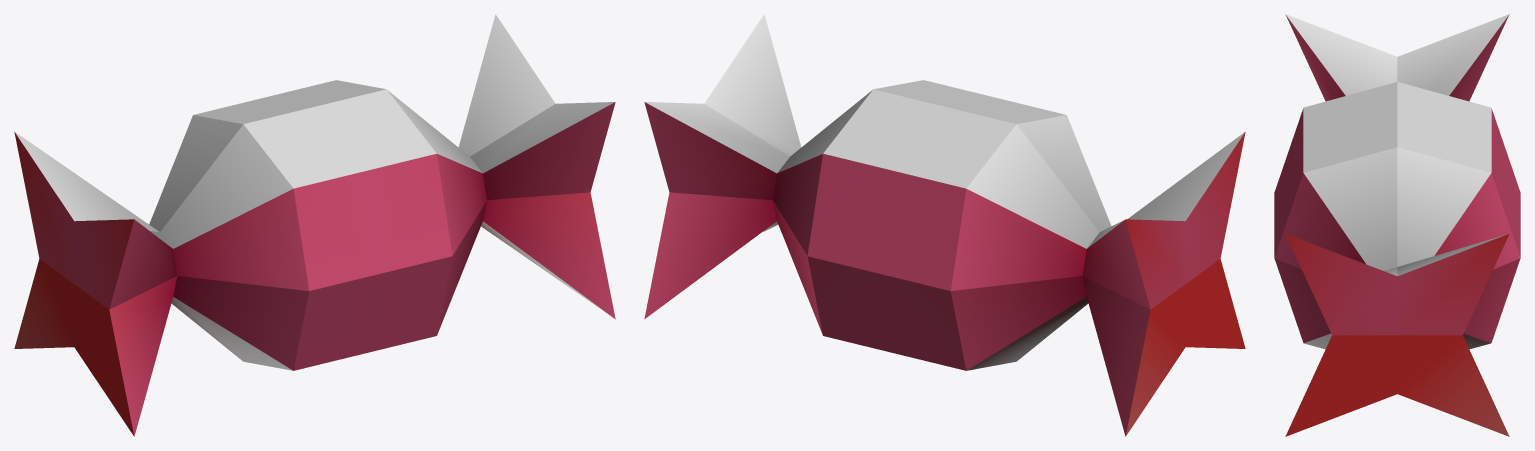
The model's file is candy.fbx.
The picture shows the model from 3 angles, left to right: view 1: azimuth 30°, elevation 25°; view 2: azimuth 150°, elevation 25°; view 3: azimuth 270°, elevation 25°; orthographic projection. The views are drawn at different scales.
Parts seen in each view (by area): view 1: candy; view 2: candy; view 3: candy.
Part boxes in pixels (bbox=[...]): candy: bbox=[14, 14, 615, 436]; candy: bbox=[644, 14, 1245, 436]; candy: bbox=[1274, 14, 1520, 436].
Size of the model in its own units: 0.1085 by 0.0512 by 0.0515.
